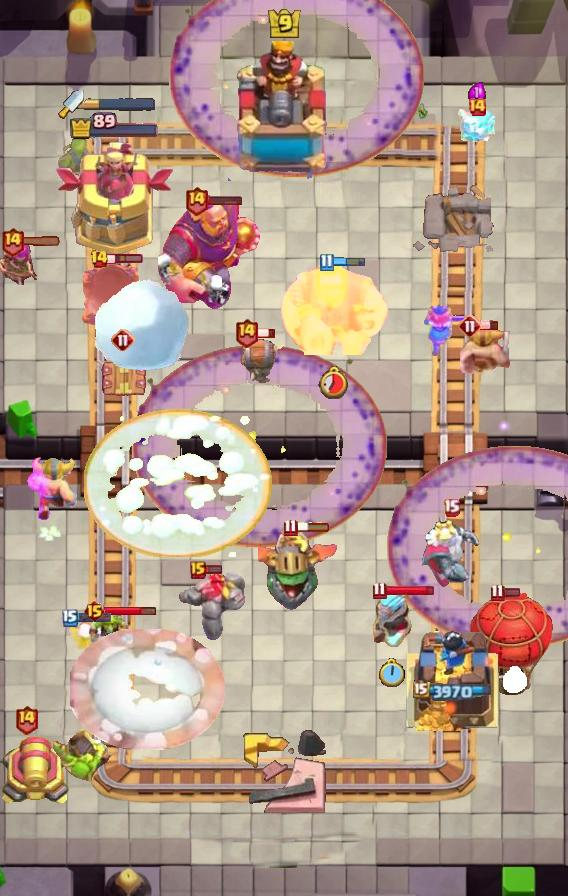bar: (54, 142, 173, 256)
bat: (456, 105, 498, 147)
cannon: (0, 241, 42, 285)
cannon-cart: (468, 590, 554, 698)
electro-spirit: (468, 81, 486, 104)
elixir: (318, 365, 350, 399), (379, 658, 406, 689), (503, 667, 527, 694)
emote: (384, 583, 436, 596), (103, 607, 156, 618), (10, 236, 62, 247), (107, 253, 145, 265), (207, 194, 243, 206), (330, 256, 366, 268), (295, 521, 331, 533), (76, 612, 112, 623), (256, 327, 276, 339), (480, 320, 500, 331), (205, 565, 224, 576), (502, 586, 521, 597)
giant-skeleton: (279, 261, 389, 355)
goblin-brawler: (98, 356, 148, 402)
goblin-giant: (26, 455, 77, 521), (460, 325, 512, 375)
heal-spirit: (67, 617, 97, 649)
hog-rider: (422, 304, 470, 358)
king-tower: (228, 41, 340, 181)
king-tower-bar: (84, 97, 156, 111)
knight: (236, 338, 288, 384)
lightning: (158, 196, 262, 314)
mortar: (369, 587, 415, 651)
mortar-evolution: (419, 517, 483, 589)
musketeer: (79, 262, 143, 328)
night-witch: (257, 530, 339, 610)
phoenix-big: (84, 409, 272, 557)
queen-tower: (405, 621, 501, 731)
rocket: (132, 344, 388, 548), (169, 0, 425, 178), (388, 445, 568, 649)
royal-recruit: (0, 735, 72, 809)
selected: (68, 112, 159, 140), (414, 679, 495, 700)
text: (183, 184, 208, 215), (234, 317, 259, 348), (14, 704, 39, 735), (0, 226, 24, 257), (458, 314, 482, 338), (111, 328, 135, 352), (83, 599, 106, 623), (467, 97, 487, 117), (90, 249, 109, 269), (444, 498, 461, 517), (190, 561, 206, 579), (62, 609, 78, 627), (319, 253, 334, 272), (282, 519, 297, 538), (491, 582, 506, 601), (373, 581, 387, 599)
valkyrie-evolution: (176, 570, 248, 642)
wall-breaker: (70, 629, 225, 750), (93, 276, 191, 371)
x-bow: (52, 727, 115, 783)
zap: (56, 139, 100, 181), (88, 615, 130, 651)
